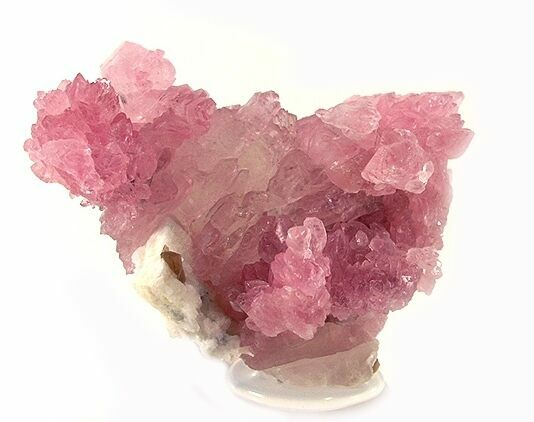Rose_Quartz: (22, 40, 475, 356)
